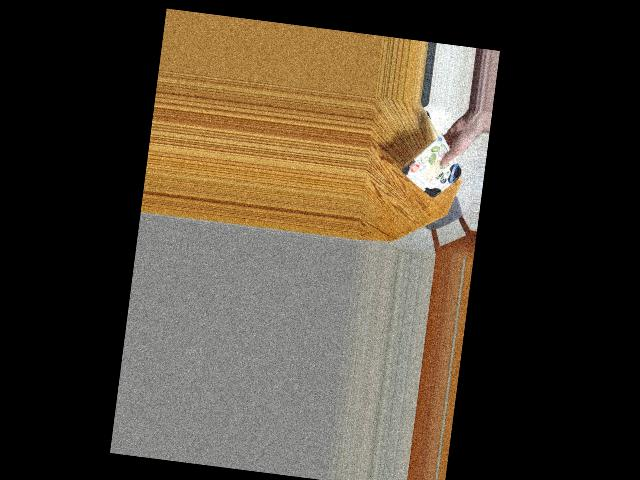cheese: (407, 137, 457, 198)
